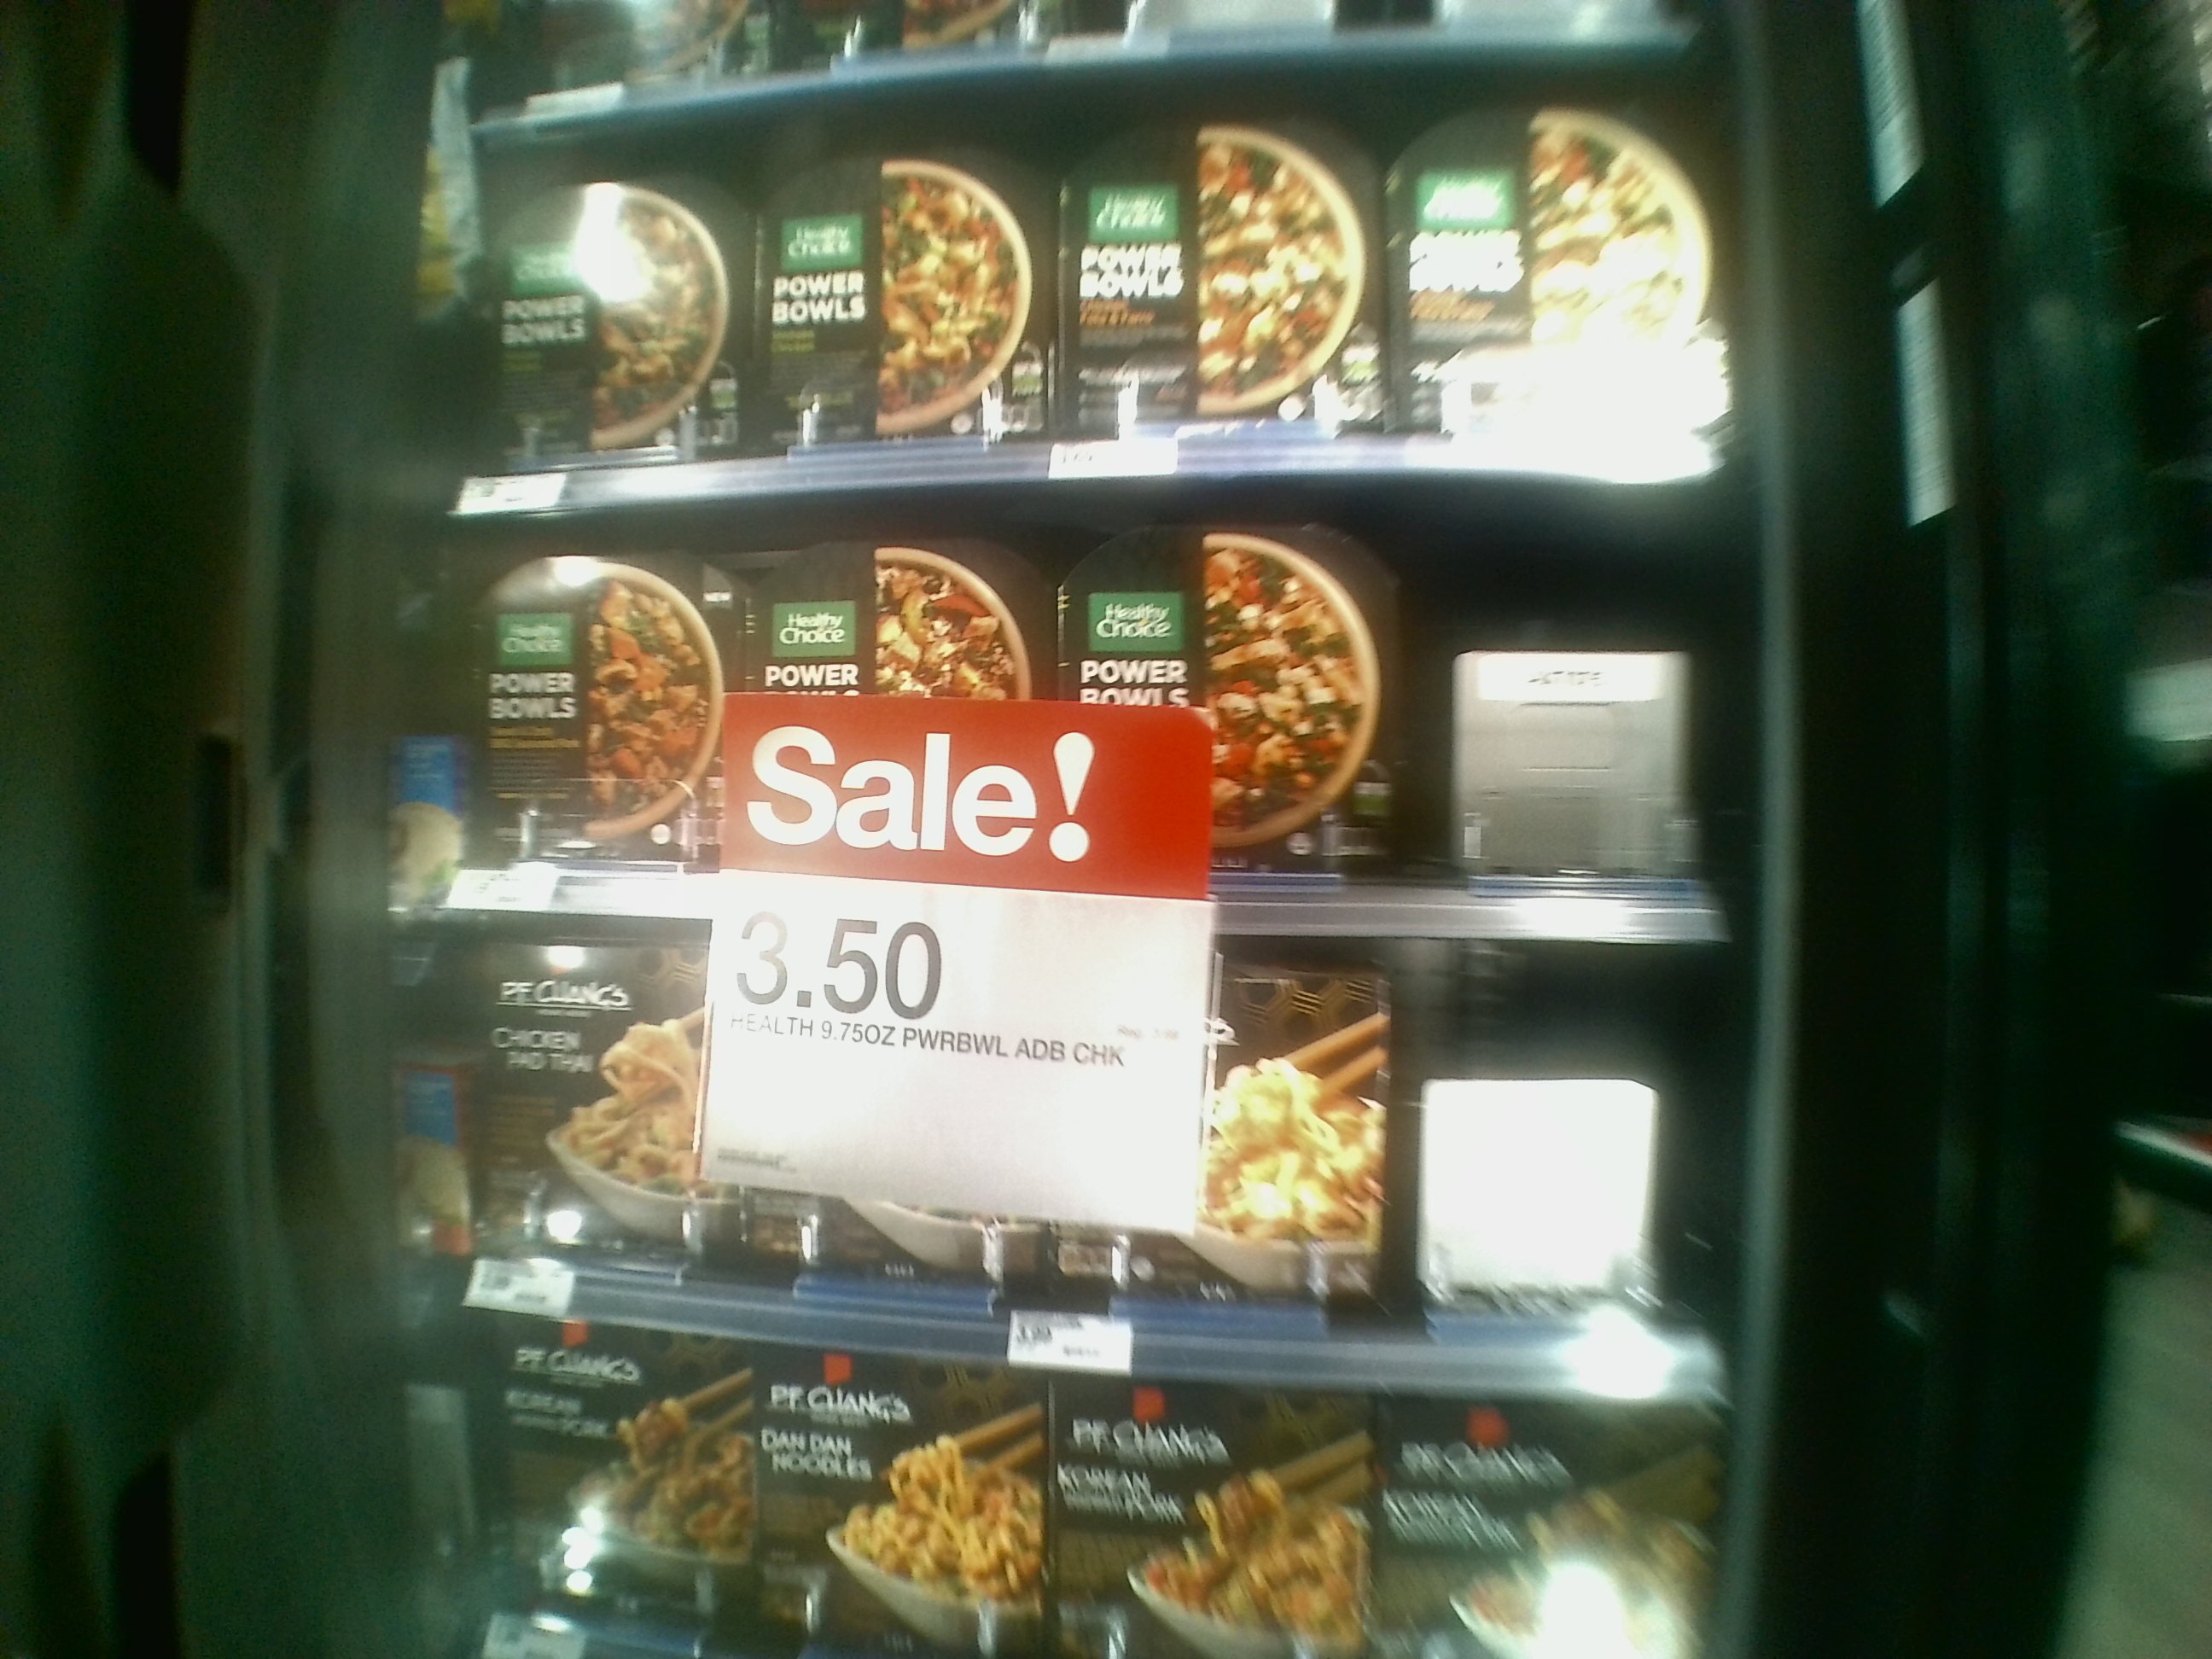shelf: (387, 906, 1768, 1419), (406, 462, 1745, 932)
